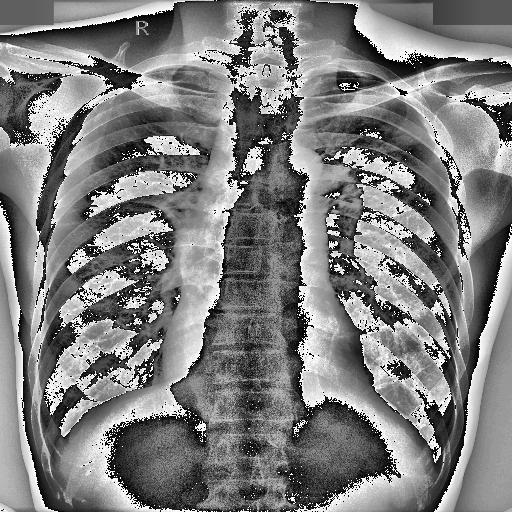11- Pleural thickening: (138, 57, 214, 75), (137, 64, 221, 73), (334, 64, 376, 80), (335, 66, 375, 78)
13- Pulmonary fibrosis: (311, 121, 416, 215), (334, 105, 426, 166), (133, 172, 200, 234), (122, 134, 169, 172), (51, 198, 104, 228), (106, 104, 136, 142), (67, 195, 109, 211), (54, 218, 86, 230), (50, 222, 82, 228)
7- Lung Opacity: (147, 156, 206, 240)
